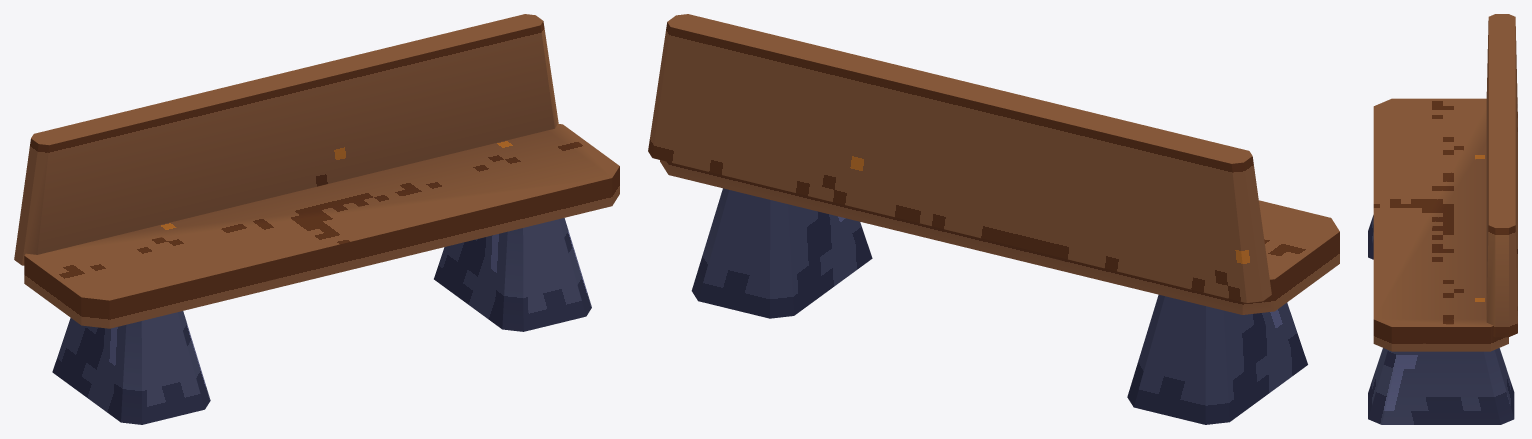
File: cydress.bench.glb
The picture shows the model from 3 angles, left to right: view 1: azimuth 30°, elevation 25°; view 2: azimuth 150°, elevation 25°; view 3: azimuth 270°, elevation 25°; orthographic projection. The views are drawn at different scales.
Parts seen in each view (by area): view 1: kit_body; view 2: kit_body; view 3: kit_body.
Boxes of the visible parts, x1,y1,x2,y2 form: kit_body: (14, 14, 619, 424); kit_body: (648, 14, 1339, 424); kit_body: (1368, 14, 1517, 424).
Bounding box in the file's own units: 2.4 × 1 × 0.665.
Materials: 2 (2 with a texture image).
